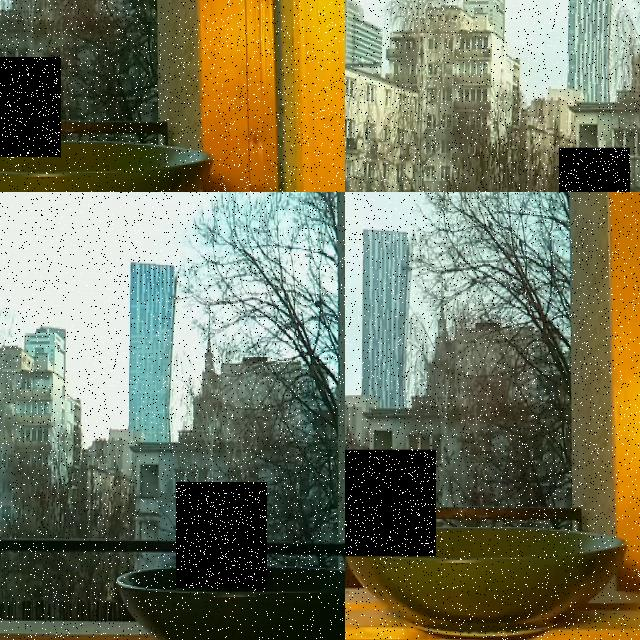Modraszka: (0, 57, 61, 157)
Wrobel: (176, 482, 267, 590), (345, 449, 436, 556), (559, 147, 630, 192)
